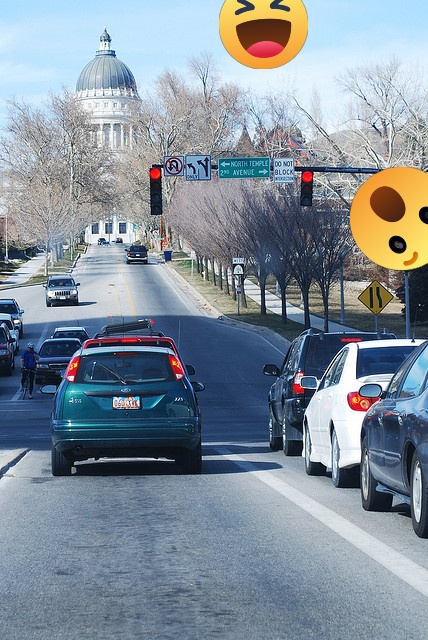haha: (219, 0, 308, 69)
wow: (350, 167, 428, 270)
